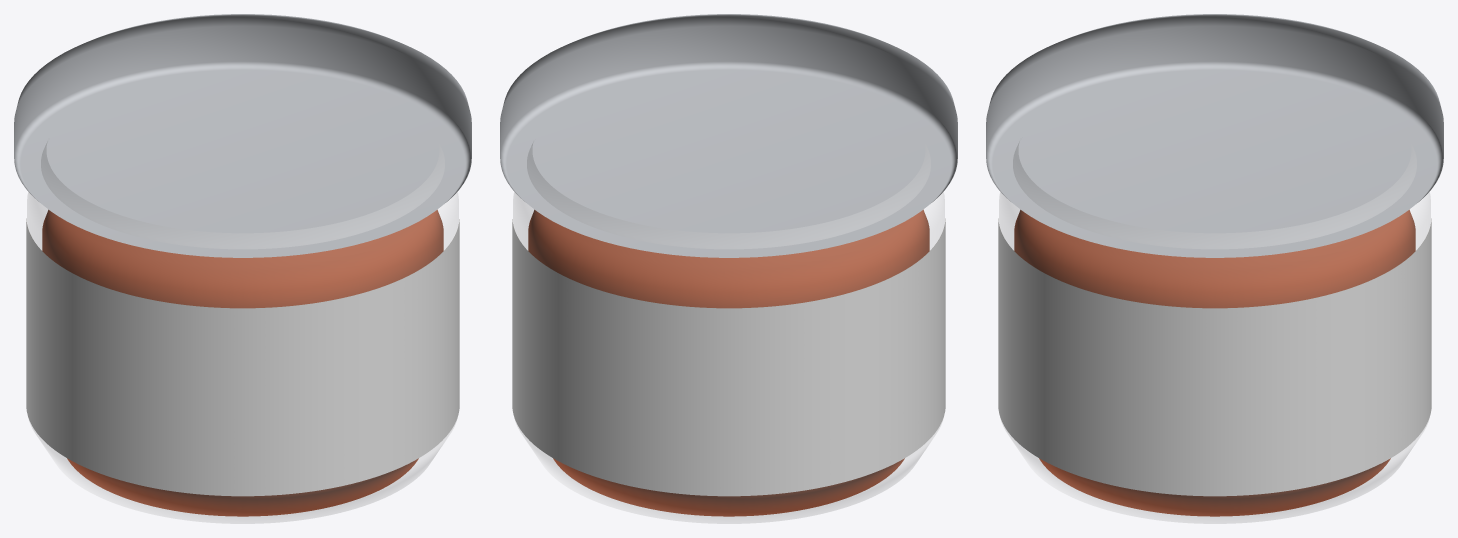
File: jar.glb
3 views of the same model, side by side, from view 1: azimuth 30°, elevation 25°; view 2: azimuth 150°, elevation 25°; view 3: azimuth 270°, elevation 25° (orthographic).
Visible parts, largest first — view 1: Lid, Label, Glass, Content; view 2: Lid, Label, Glass, Content; view 3: Lid, Label, Glass, Content.
Boxes of the visible parts, <box> form: Lid: <box>14,14,471,257</box>; Label: <box>26,221,459,496</box>; Glass: <box>27,143,458,523</box>; Content: <box>42,209,443,516</box>; Lid: <box>500,14,957,257</box>; Label: <box>512,221,945,496</box>; Glass: <box>513,143,944,523</box>; Content: <box>528,209,929,516</box>; Lid: <box>986,14,1443,257</box>; Label: <box>998,222,1431,496</box>; Glass: <box>999,143,1430,523</box>; Content: <box>1014,209,1415,516</box>.
Size of the model in its own units: 1.06 by 0.885 by 1.06.
